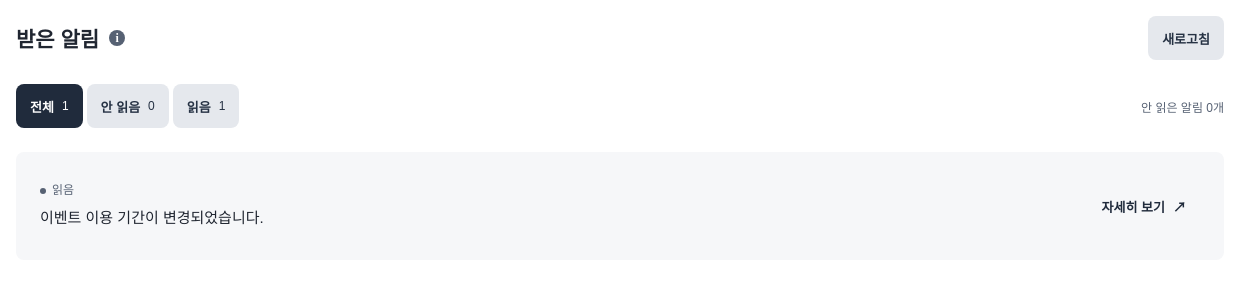
personal workspace notices › explains an empty unread filter and lets the user return to all notices
The image size is (1241, 286).
Expected: the text "이벤트 이용 기간이 변경되었습니다." is shown, top-left (40, 209), bottom-right (264, 226)
Click the button "안 읽음 0" at x=128, y=106, box top-left (87, 84), bottom-right (169, 128)
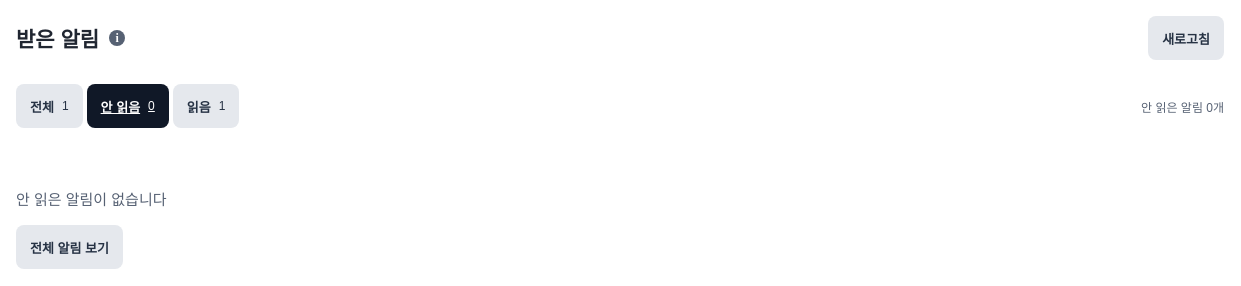
Result: the text "안 읽은 알림이 없습니다" is shown at top-left (16, 188), bottom-right (166, 209)
Click the button "전체 알림 보기" at x=70, y=247, box top-left (16, 225), bottom-right (123, 269)
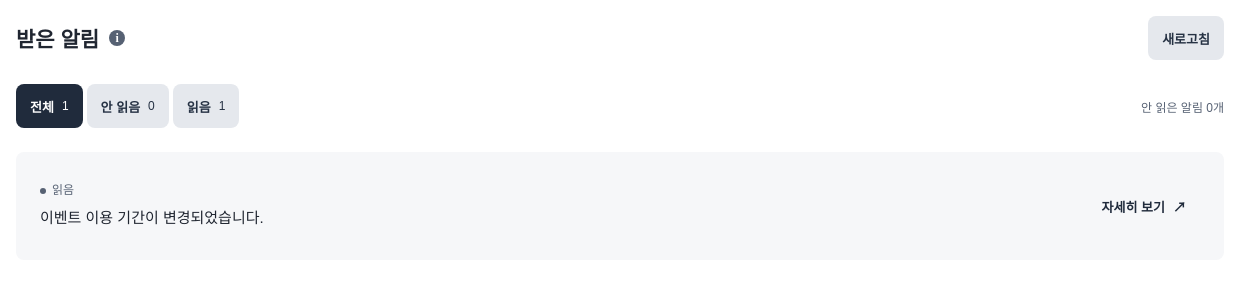
Result: the text "이벤트 이용 기간이 변경되었습니다." is shown at top-left (40, 209), bottom-right (264, 226)
